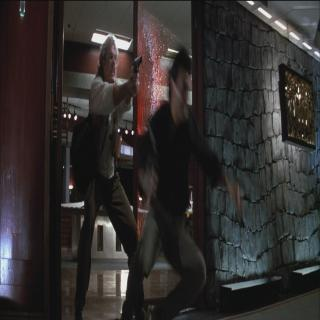gun: (130, 51, 144, 83)
